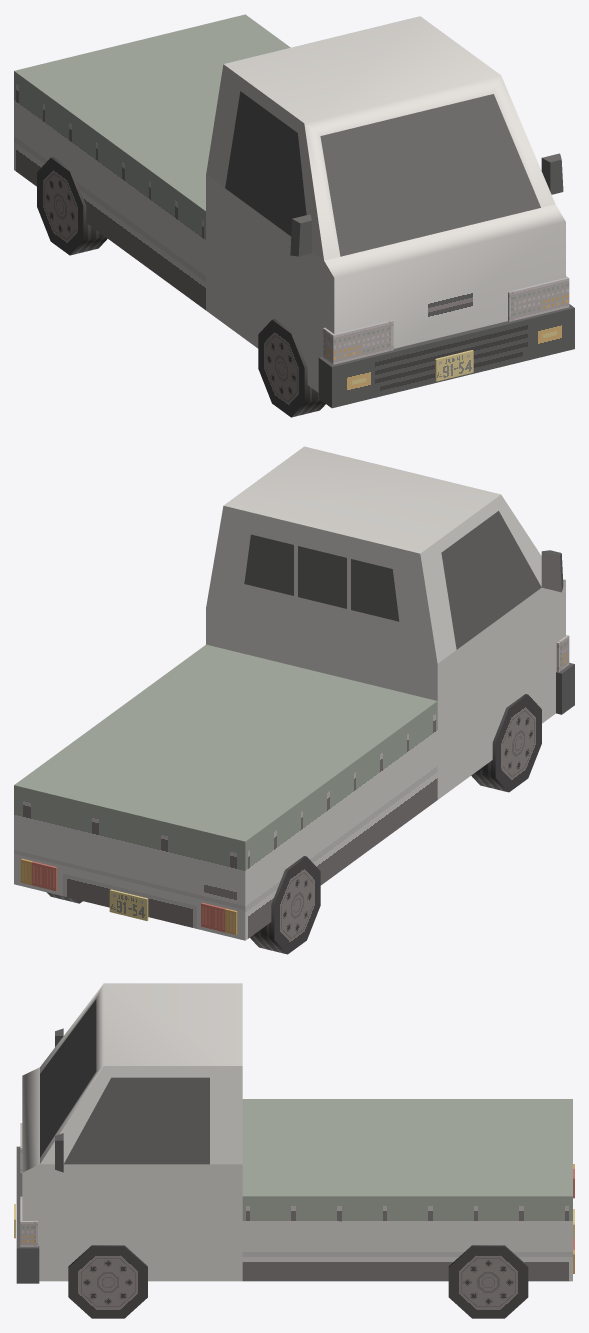
The model's file is 0095_Light_Truck.glb.
The picture shows the model from 3 angles, top to bottom: view 1: azimuth 30°, elevation 25°; view 2: azimuth 150°, elevation 25°; view 3: azimuth 270°, elevation 25°; orthographic projection. The views are drawn at different scales.
Parts seen in each view (by area): view 1: part_0, part_2, part_1; view 2: part_0, part_2, part_1; view 3: part_0, part_2, part_1.
Part boxes in pixels (x1,y1,x2,y2): part_0: (14, 14, 574, 408); part_2: (37, 157, 107, 255); part_1: (258, 319, 325, 417); part_0: (14, 446, 574, 940); part_2: (47, 856, 320, 954); part_1: (471, 694, 541, 792); part_0: (14, 983, 574, 1283); part_2: (448, 1245, 528, 1318); part_1: (68, 1245, 147, 1318).
Bounding box in the file's own units: 1.59 × 1.6 × 3.32.
Materials: 3 (3 with a texture image).
